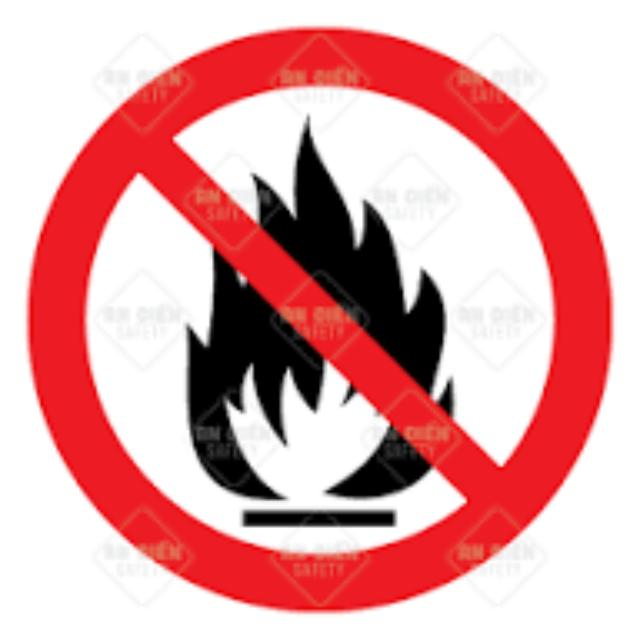cam lua: (33, 30, 603, 603)
